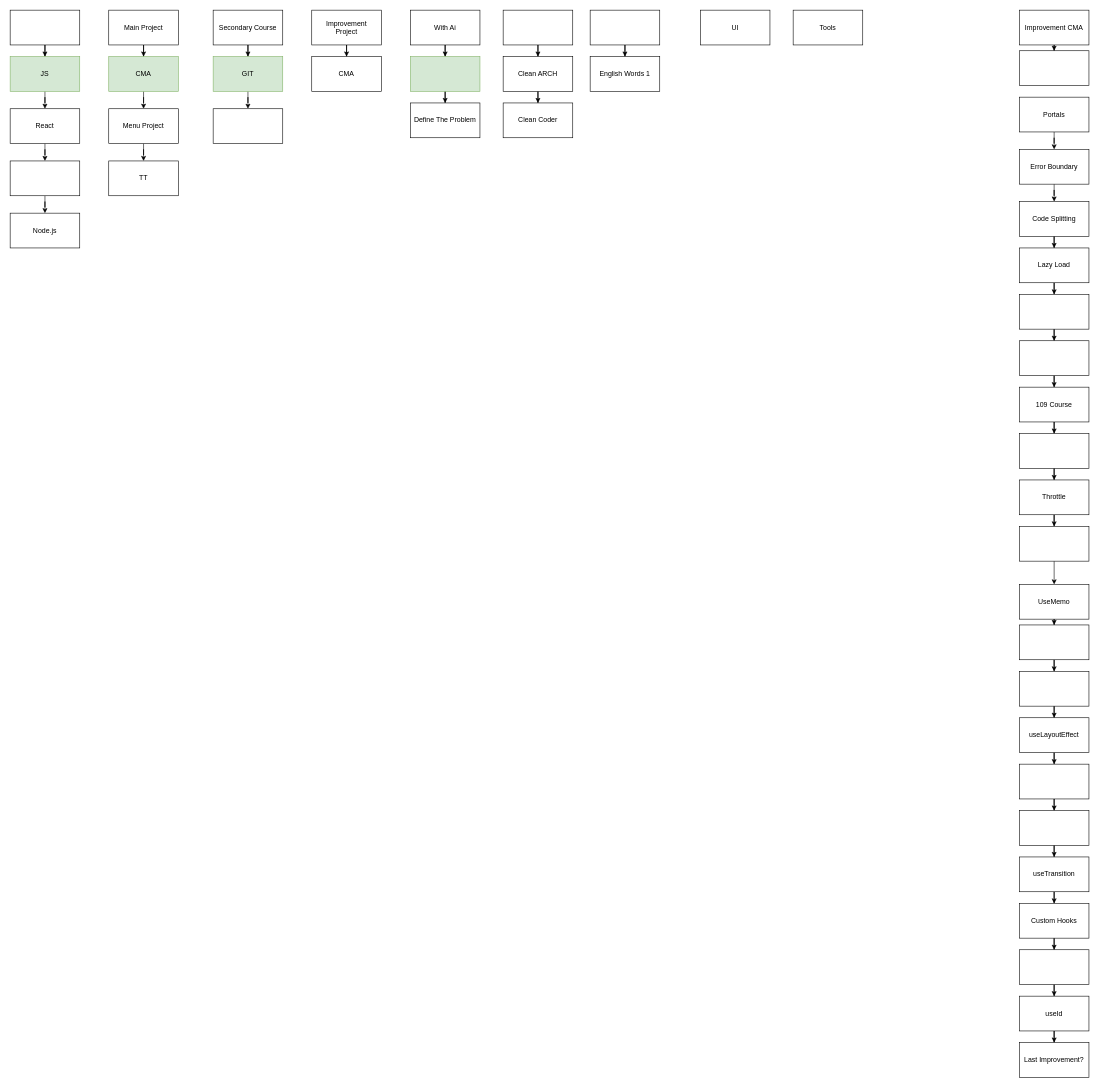
Image size: 1099x1088. Some labels were removed from this diagram. The shapes that lost their labels are listed below. From the top down, each one's centre as x and y in pixels, then its label:
At point (45, 27): "Main Course".
At point (538, 27): "Reading".
At point (625, 27): "Language".
At point (445, 73): "BT5".
At point (1054, 68): "HOC?".
At point (248, 126): "Unit Test".
At point (45, 178): "TypeScript".
At point (1054, 311): "React Helmet".
At point (1054, 358): "Edit Contact Refactor".
At point (1054, 450): "ImmerJS".
At point (1054, 543): "UseRef".
At point (1054, 642): "useCallbacks".
At point (1054, 688): "useReducer".
At point (1054, 781): "useImperativeHendler".
At point (1054, 827): "useDefferedValue".
At point (1054, 967): "useDebugValue".
